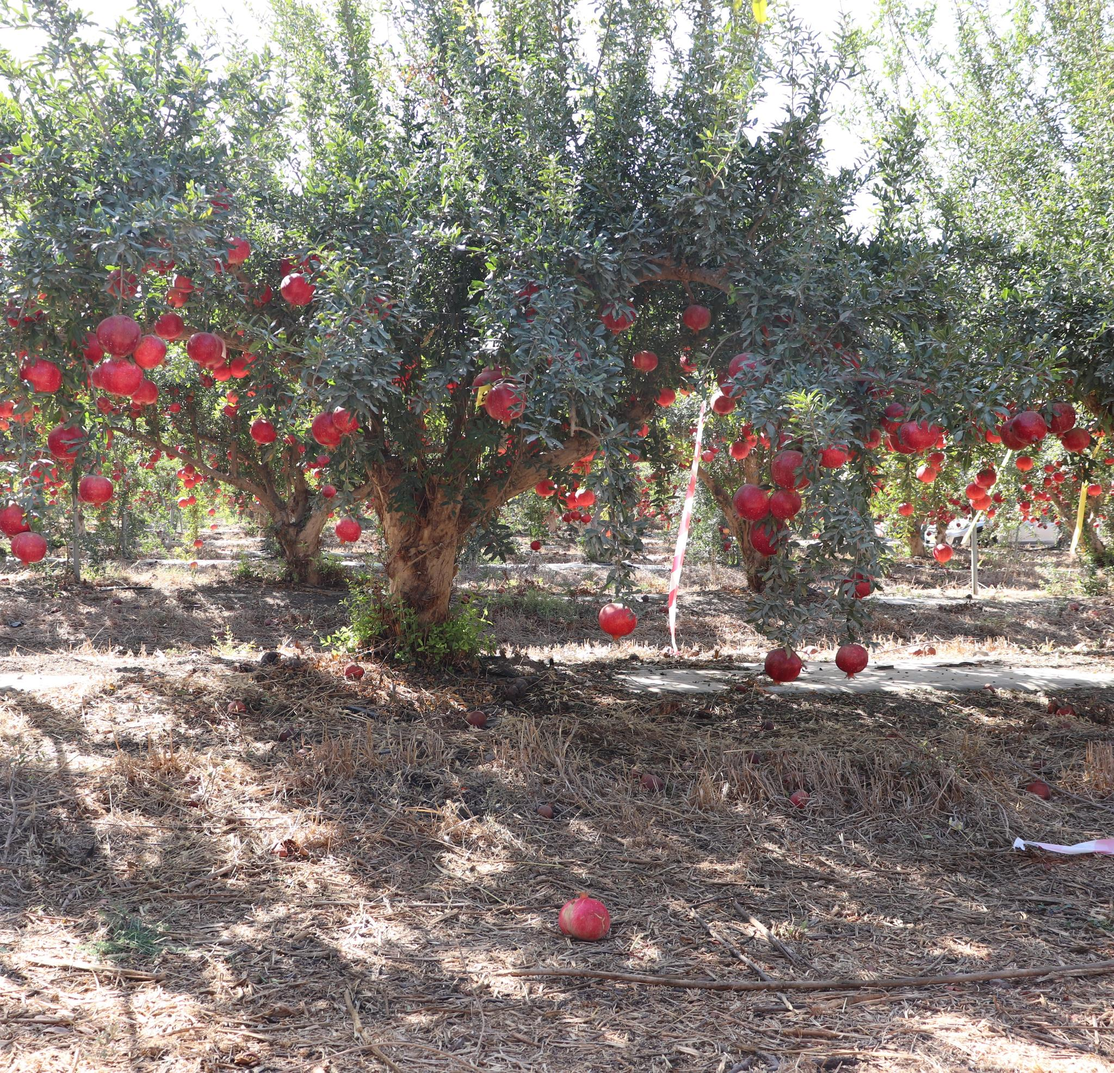defected: (558, 891, 611, 942), (1023, 777, 1051, 800), (276, 839, 308, 858), (786, 788, 812, 810), (343, 661, 367, 682), (466, 709, 486, 732), (642, 774, 663, 793), (278, 726, 299, 743), (227, 699, 244, 713), (1048, 699, 1062, 716), (1059, 705, 1075, 718), (539, 804, 552, 818), (746, 751, 760, 764), (908, 646, 923, 657), (922, 644, 936, 655), (683, 763, 697, 771), (1033, 723, 1043, 732), (1008, 727, 1019, 733), (264, 618, 272, 626), (1061, 722, 1070, 729)
